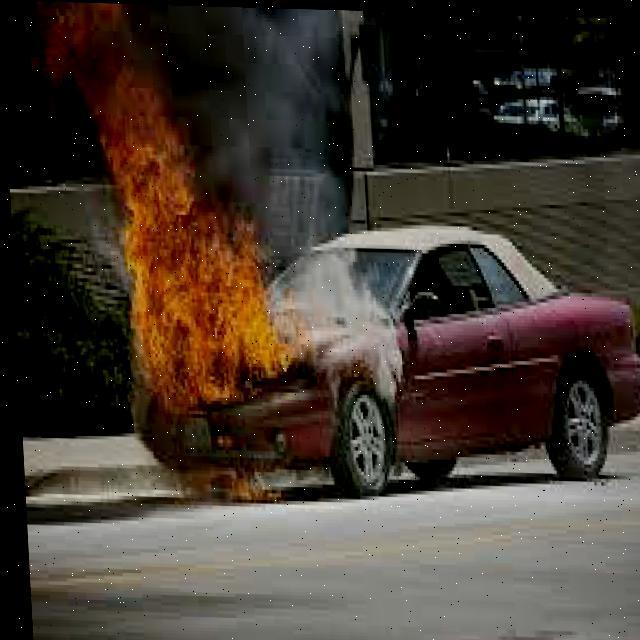Fire: (24, 4, 334, 434)
